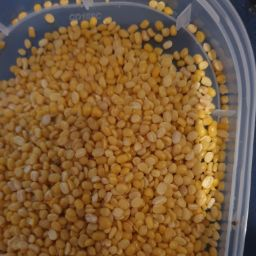Red Split Lentils(malka masar): (14, 20, 210, 237), (28, 31, 229, 241), (2, 109, 171, 256)
